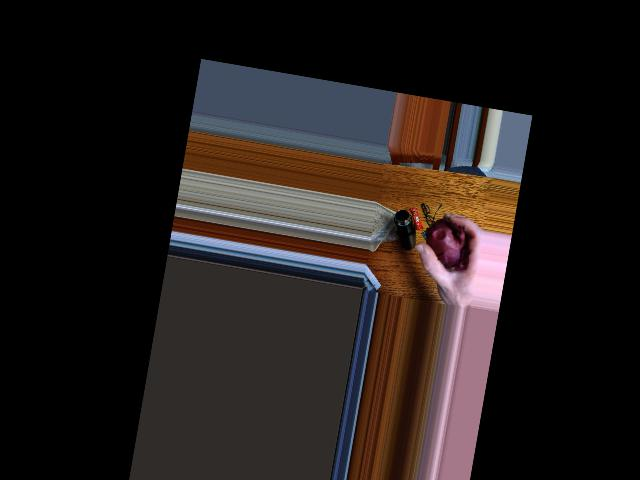onion: (427, 211, 473, 275)
